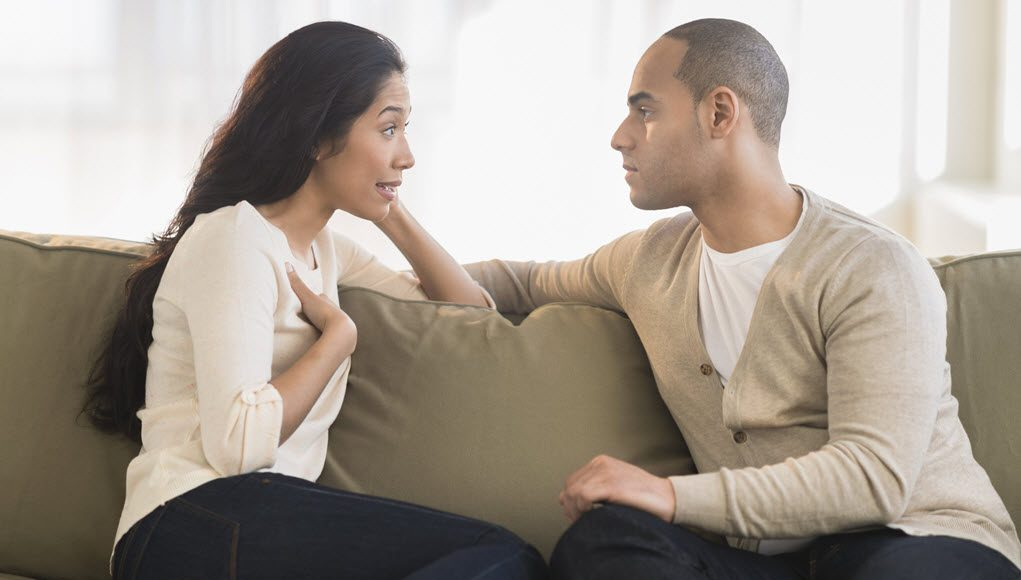person: (565, 20, 964, 442), (138, 14, 460, 432)
